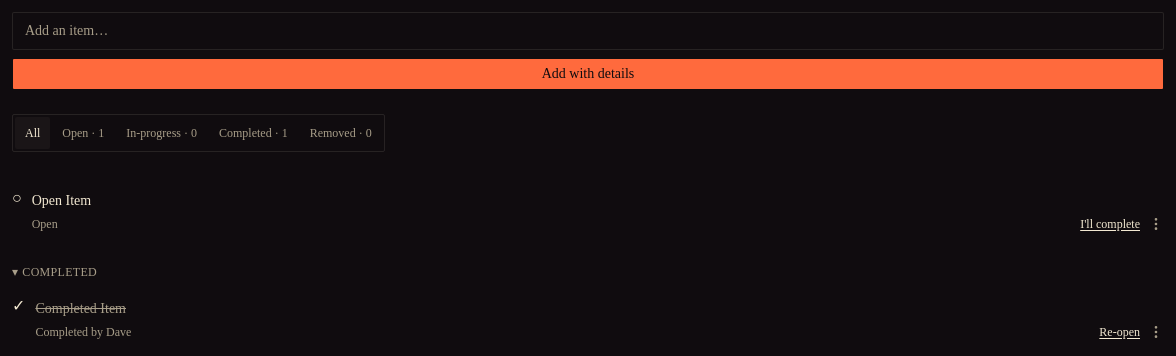
Test: <ShoppingList /> › collapsing the Completed section hides its cards; expanding shows them again
This screenshot has width=1176, height=356.
Check: the text "Completed Item" is shown, box [35, 299, 126, 319]
Click the button with aria-label "Show/hide Completed" at (60, 272), box [12, 264, 1164, 280]
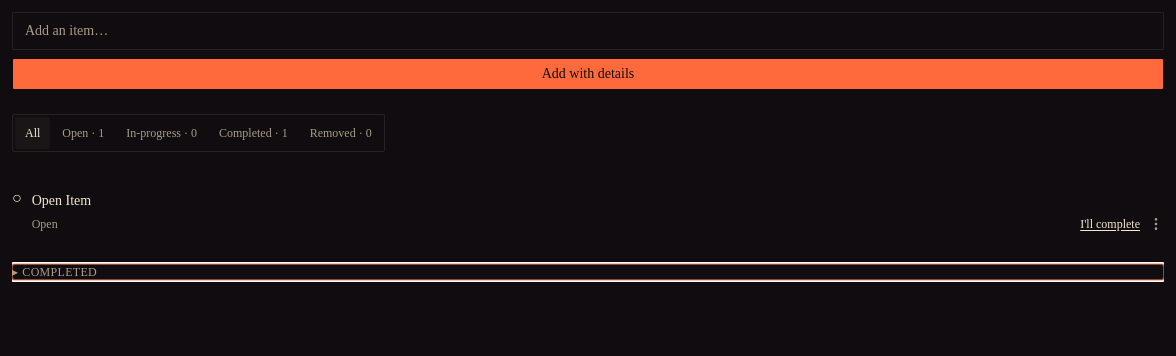
Check: the button with aria-label "Show/hide Completed" is collapsed
Check: the button "Completed Item" is gone
Click the button with aria-label "Show/hide Completed" at (60, 272), box [12, 264, 1164, 280]
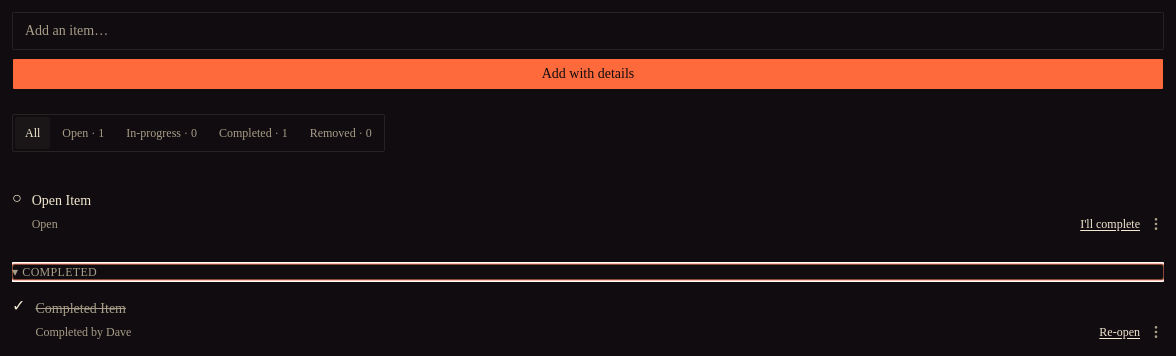
Check: the button with aria-label "Show/hide Completed" is expanded, box [12, 264, 1164, 280]
Check: the text "Completed Item" is shown, box [35, 299, 126, 319]
